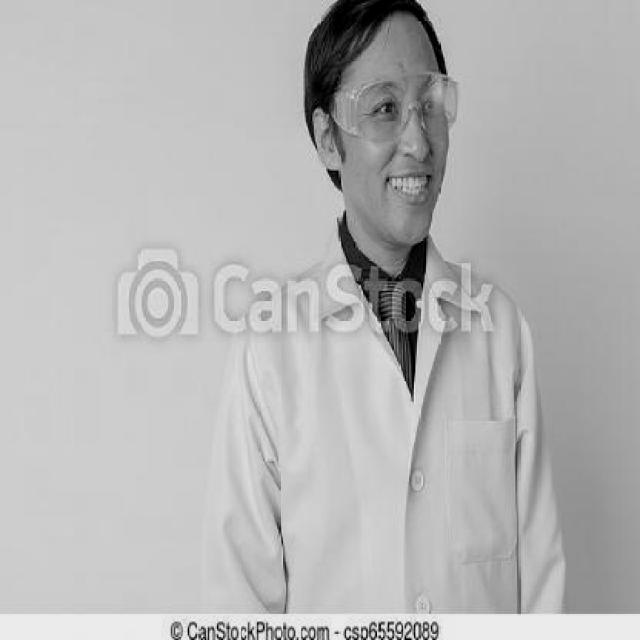face_nomask: (353, 63, 458, 208)
glasses: (321, 69, 459, 142)
head_nohelmet: (303, 1, 454, 64)
person: (214, 1, 572, 608)
